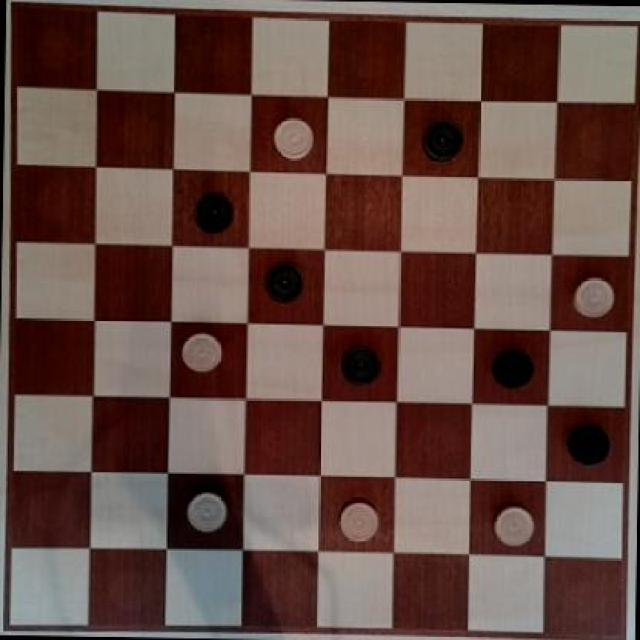BOARD: (8, 3, 626, 636)
black: (559, 416, 619, 469), (333, 339, 382, 389), (260, 256, 308, 307), (188, 188, 241, 232), (416, 116, 464, 160), (492, 345, 532, 388)
white: (485, 499, 538, 554), (266, 112, 320, 165), (181, 483, 233, 537), (331, 491, 380, 545), (572, 272, 624, 322), (178, 328, 226, 372)
